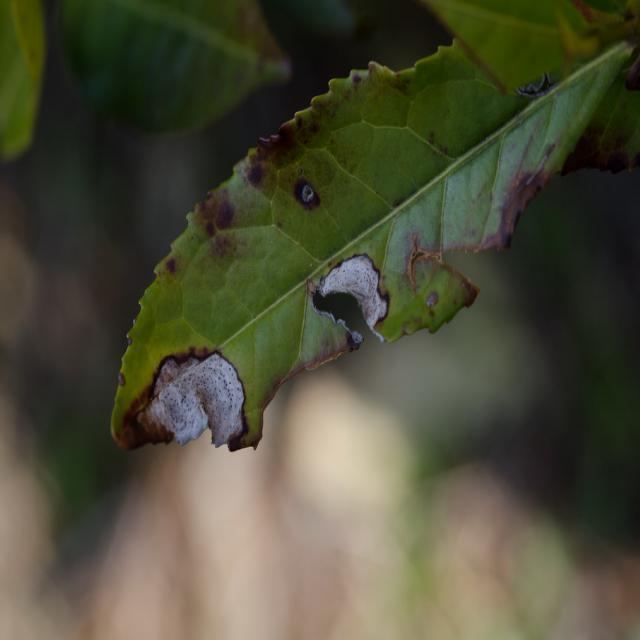Tea cloud leaf blight: (135, 336, 255, 456), (302, 248, 398, 352)
